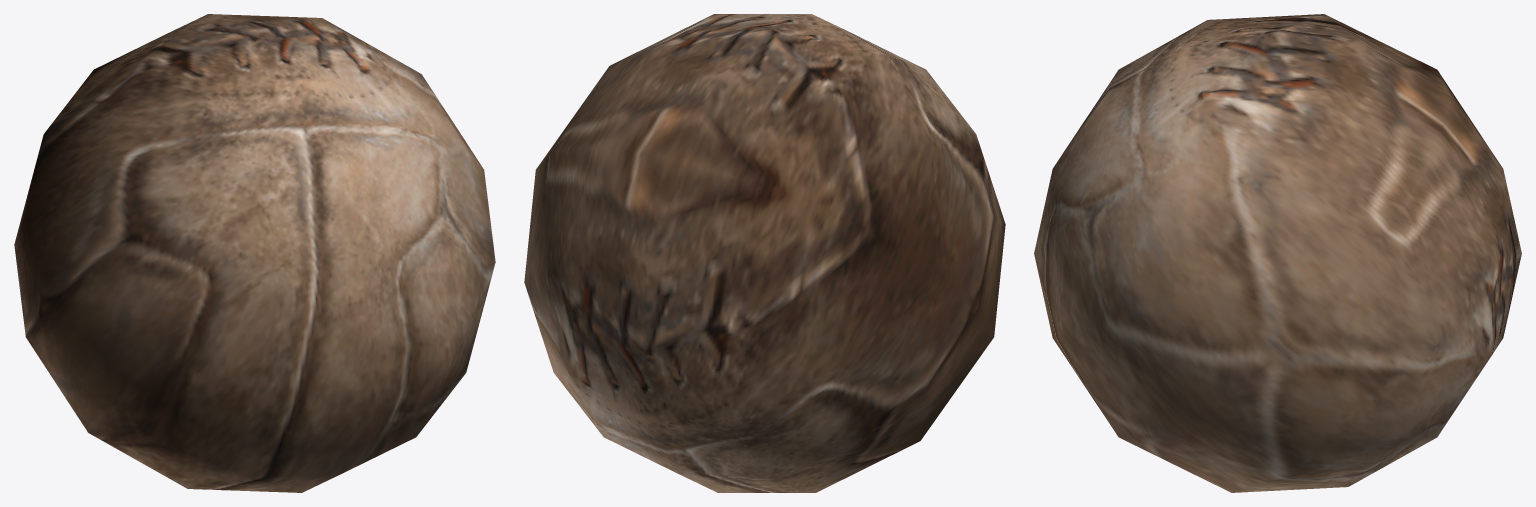
Rendered from balon_viejo_003.FBX.
3 views of the same model, side by side, from view 1: azimuth 30°, elevation 25°; view 2: azimuth 150°, elevation 25°; view 3: azimuth 270°, elevation 25° (orthographic).
Parts seen in each view (by area): view 1: balon_viejo_003; view 2: balon_viejo_003; view 3: balon_viejo_003.
Part boxes in pixels (x1,y1,x2,y2): balon_viejo_003: (14, 14, 495, 492); balon_viejo_003: (524, 14, 1005, 492); balon_viejo_003: (1034, 14, 1521, 492).
Bounding box in the file's own units: 26.98 × 26.98 × 26.98.
